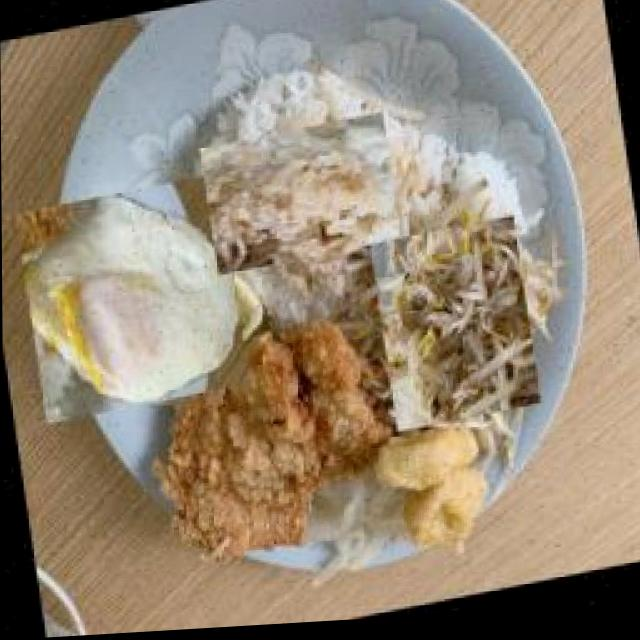chicken_nuggets: (371, 422, 494, 566)
fried_chicken: (134, 315, 383, 580)
fried_eggs: (14, 176, 251, 430)
mung_bean_sprouts: (369, 220, 544, 441)
rice: (213, 104, 392, 290)
